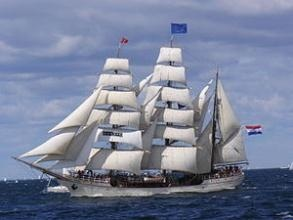fanchuan: (18, 22, 265, 199)
